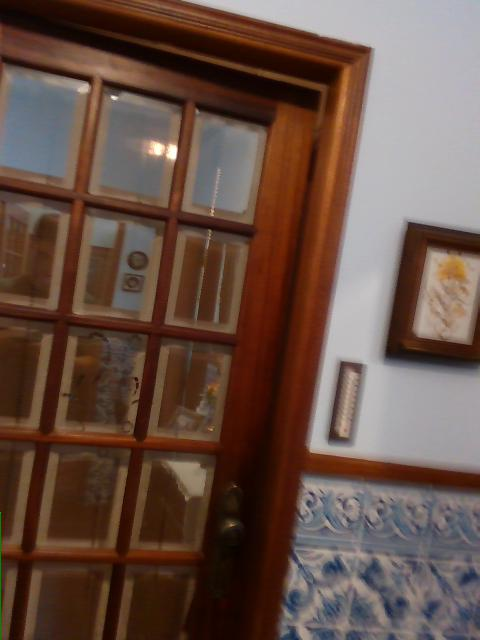door: (0, 0, 367, 639)
